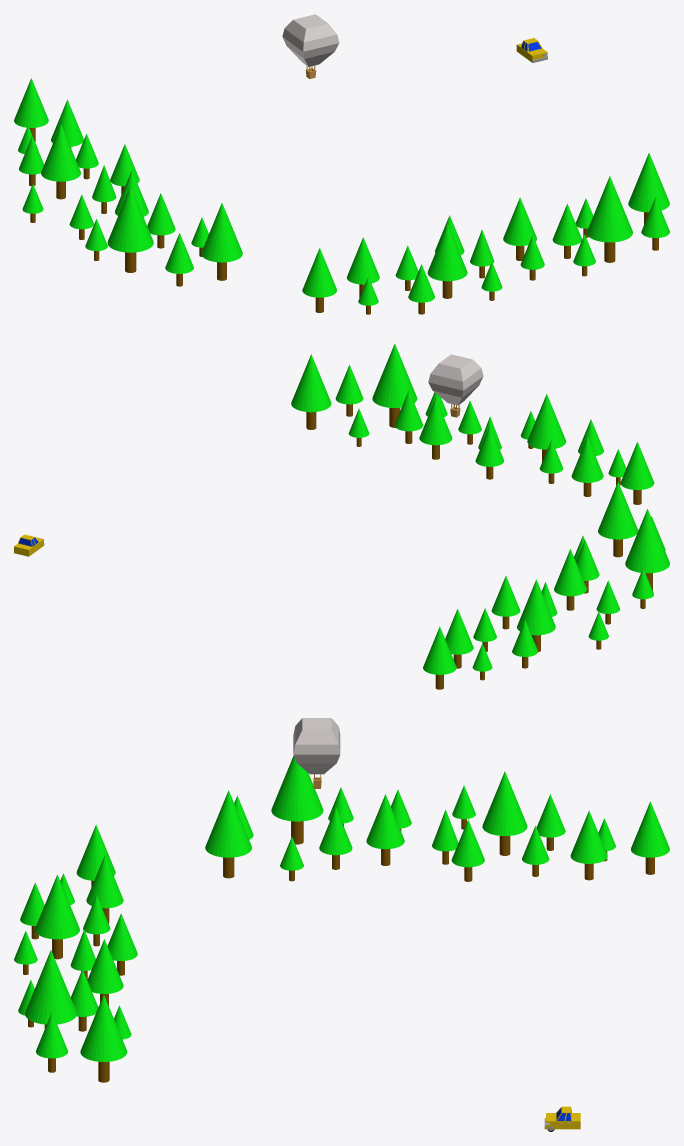
The model's file is yahaba_sousyoku.glb.
The picture shows the model from 3 angles, top to bottom: view 1: azimuth 30°, elevation 25°; view 2: azimuth 150°, elevation 25°; view 3: azimuth 270°, elevation 25°; orthographic projection. The views are drawn at different scales.
Parts seen in each view (by area): view 1: 立方体.037, 円錐.029, 円錐.012, 円錐.033, 円錐.016, 円錐.022, 円錐.005, 円錐, 円錐.018, 円錐.010, 円錐.002, 円錐.013 (+15 smaller); view 2: 立方体.037, 円錐.029, 円錐.012, 円錐.033, 円錐.016, 円錐.005, 円錐.022, 円錐, 円錐.018, 円錐.010, 円錐.027, 円錐.002 (+7 smaller); view 3: 立方体.037, 円錐.012, 円錐.029, 円錐.016, 円錐.033, 円錐.005, 円錐.022, 円錐.018, 円錐.027, 円錐.010, 円錐.019, 円錐.002 (+13 smaller).
Boxes of the visible parts, x1=… form: 立方体.037: x1=282, y1=14, x2=339, y2=66; 円錐.029: x1=107, y1=186, x2=153, y2=252; 円錐.012: x1=586, y1=176, x2=632, y2=242; 円錐.033: x1=201, y1=203, x2=242, y2=262; 円錐.016: x1=628, y1=153, x2=669, y2=212; 円錐.022: x1=41, y1=124, x2=80, y2=181; 円錐.005: x1=427, y1=224, x2=467, y2=281; 円錐: x1=302, y1=248, x2=336, y2=312; 円錐.018: x1=14, y1=78, x2=48, y2=141; 円錐.010: x1=503, y1=197, x2=536, y2=245; 円錐.002: x1=346, y1=237, x2=379, y2=284; 円錐.013: x1=552, y1=204, x2=581, y2=245; 立方体.037: x1=428, y1=354, x2=483, y2=405; 円錐.029: x1=625, y1=509, x2=669, y2=573; 円錐.012: x1=372, y1=343, x2=417, y2=407; 円錐.033: x1=598, y1=481, x2=638, y2=539; 円錐.016: x1=291, y1=354, x2=331, y2=412; 円錐.005: x1=527, y1=394, x2=566, y2=449; 円錐.022: x1=517, y1=579, x2=555, y2=635; 円錐: x1=620, y1=441, x2=654, y2=504; 円錐.018: x1=423, y1=626, x2=456, y2=689; 円錐.010: x1=419, y1=398, x2=452, y2=445; 円錐.027: x1=554, y1=549, x2=586, y2=596; 円錐.002: x1=571, y1=437, x2=603, y2=482; 立方体.037: x1=293, y1=718, x2=340, y2=774; 円錐.012: x1=25, y1=950, x2=76, y2=1024; 円錐.029: x1=271, y1=756, x2=323, y2=821; 円錐.016: x1=80, y1=994, x2=127, y2=1061; 円錐.033: x1=205, y1=790, x2=251, y2=857; 円錐.005: x1=35, y1=874, x2=79, y2=939; 円錐.022: x1=482, y1=771, x2=527, y2=835; 円錐.018: x1=631, y1=801, x2=669, y2=874; 円錐.027: x1=366, y1=794, x2=404, y2=849; 円錐.010: x1=87, y1=939, x2=123, y2=993; 円錐.019: x1=570, y1=810, x2=607, y2=863; 円錐.002: x1=86, y1=855, x2=123, y2=908.
Size of the model in its own units: 47.57 by 15.97 by 42.76.
Materials: 8 (4 with a texture image).
